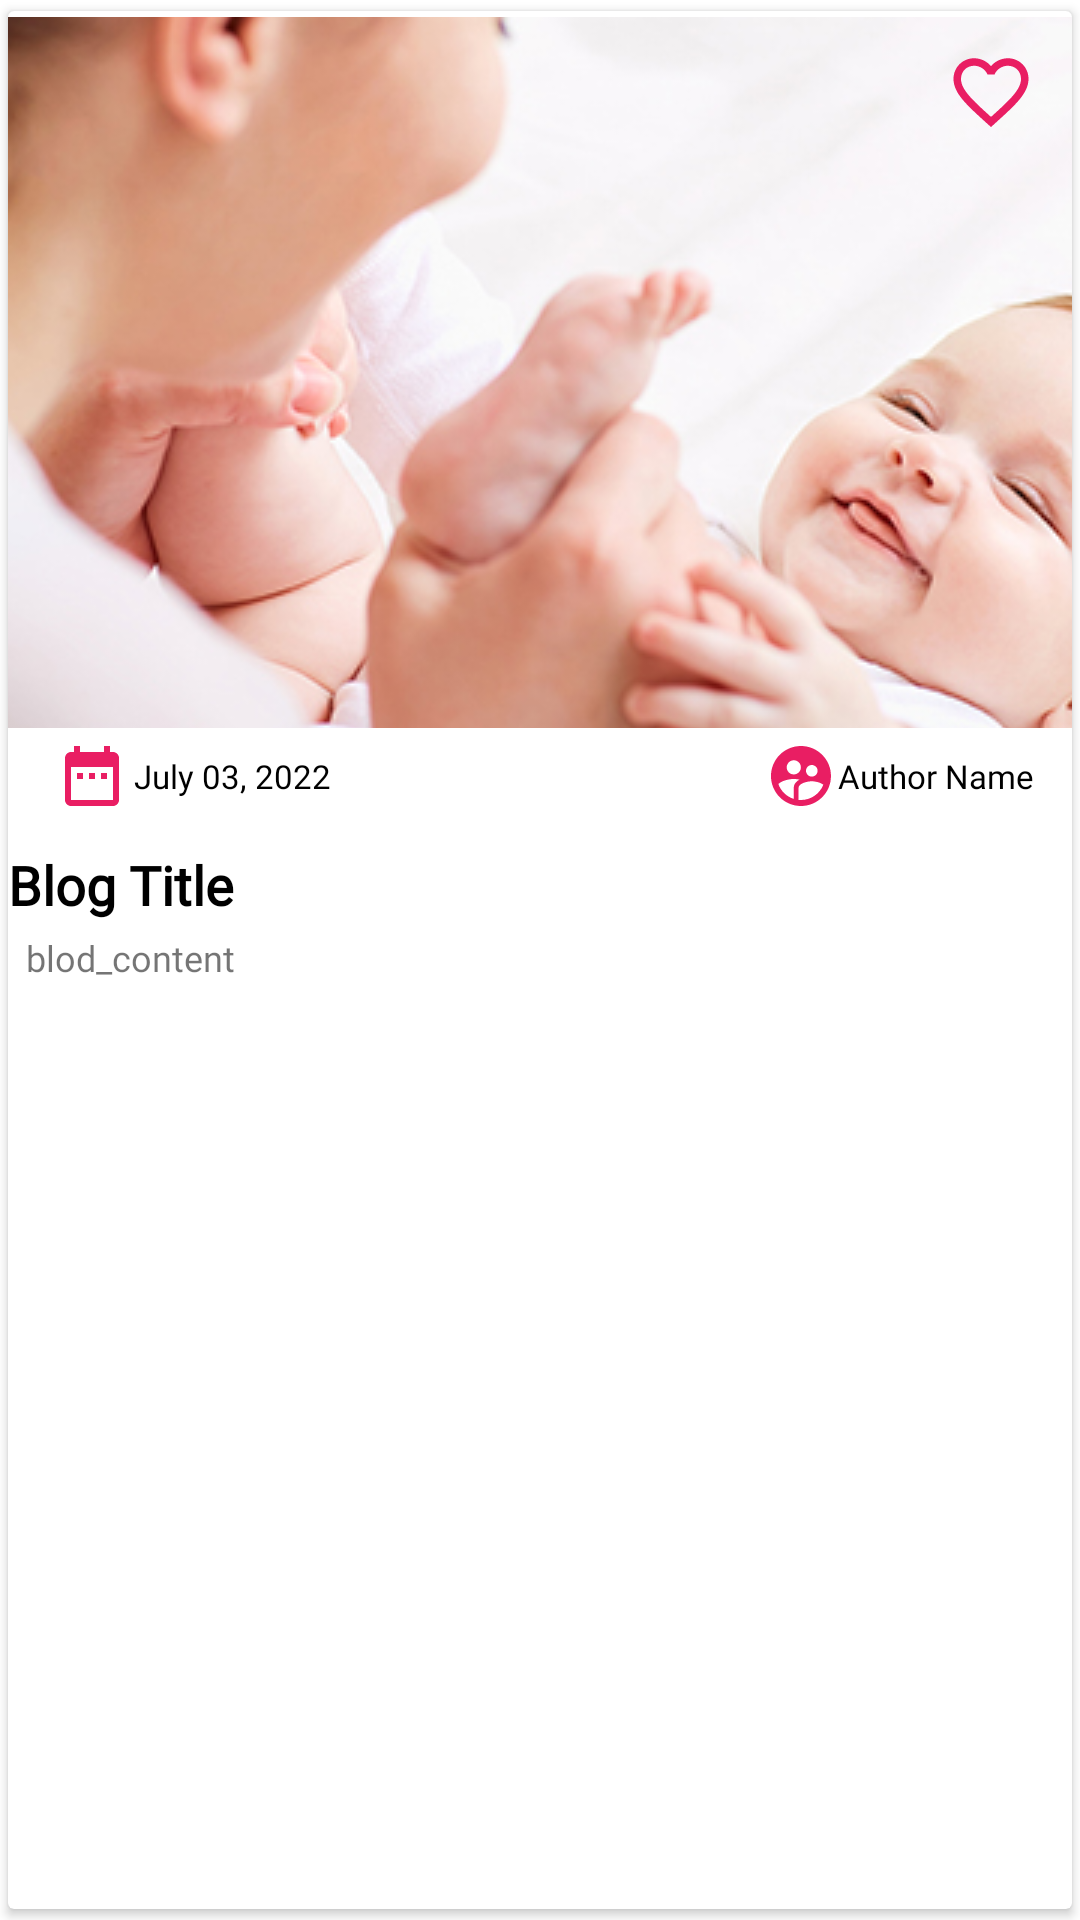

Icon bounding boxes for this 1080px x 1920px phone screenshot, format Rect(x1, y1, x2, y2):
favorite border: Rect(953, 58, 1029, 127)
